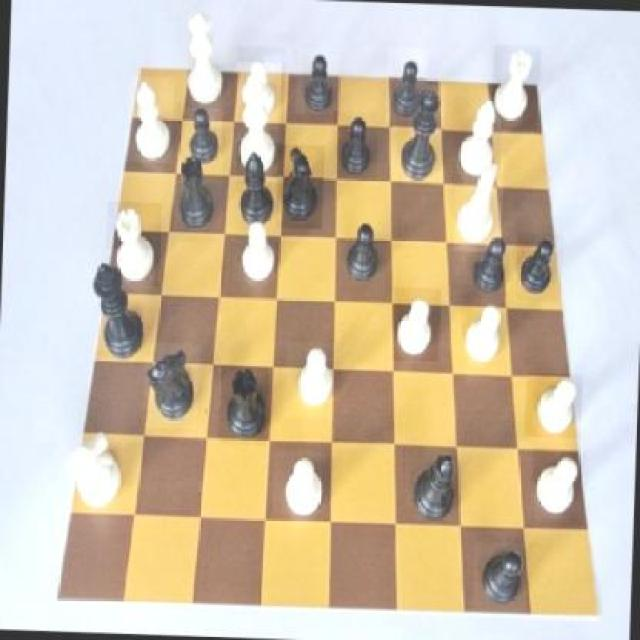bishop: (403, 446, 460, 529), (234, 142, 283, 232)
black-bishop: (88, 249, 154, 357)
black-king: (143, 342, 200, 428), (276, 144, 324, 230)
black-knight: (472, 543, 528, 614), (330, 111, 378, 180), (515, 234, 563, 301), (385, 48, 427, 123), (340, 217, 386, 284), (466, 229, 510, 299), (296, 48, 340, 114), (183, 100, 223, 168)
black-pawn: (391, 84, 446, 184)
black-queen: (218, 364, 270, 444), (173, 154, 224, 231)
black-rook: (451, 95, 501, 188), (126, 76, 176, 162)
white-bishop: (232, 62, 282, 175)
white-king: (60, 426, 127, 517), (454, 152, 504, 252)
white-knight: (531, 446, 586, 526), (271, 451, 328, 528), (235, 46, 288, 122), (285, 342, 337, 419), (525, 374, 582, 440), (391, 288, 441, 362), (460, 296, 508, 366), (238, 218, 282, 290)
white-pawn: (180, 6, 232, 109)
white-queen: (105, 202, 162, 288), (492, 45, 540, 132)
